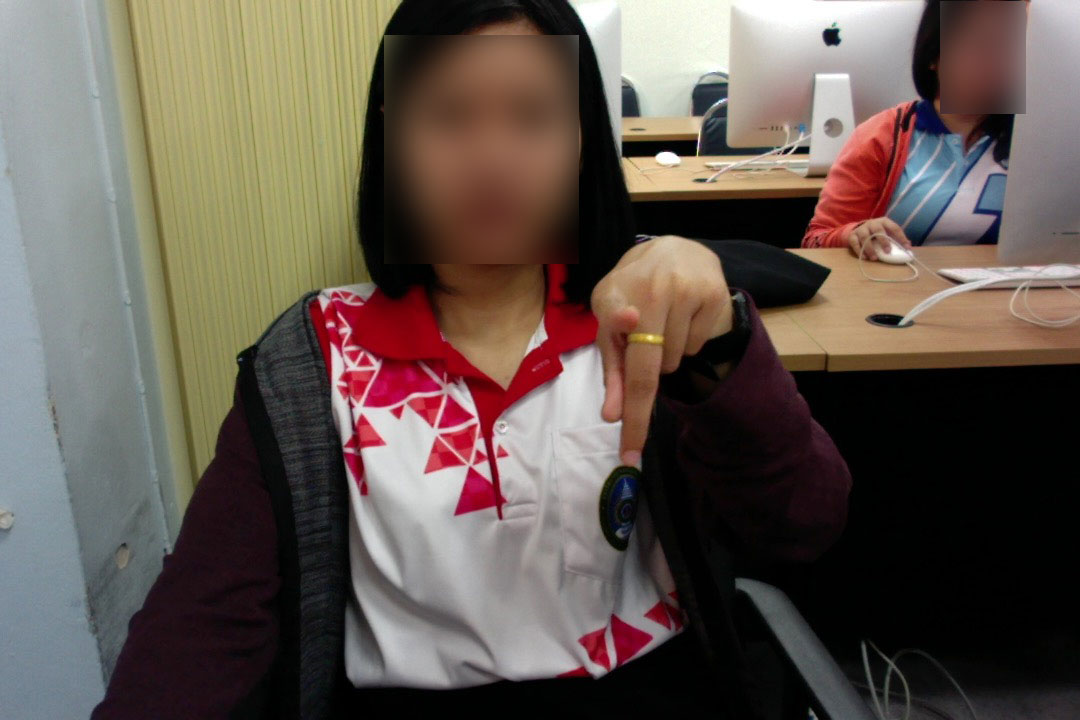por: (587, 225, 733, 470)
